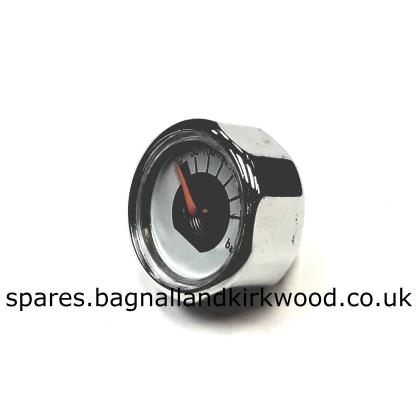needle: (173, 157, 199, 214)
